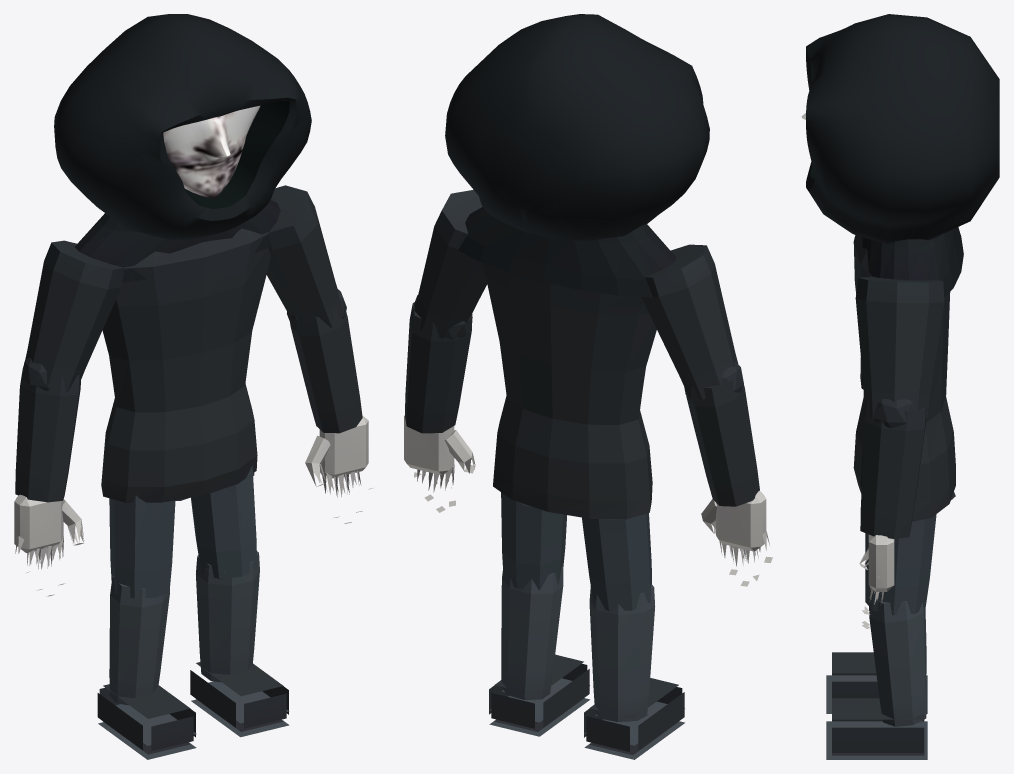
The model's file is HoodedStranger.glb.
3 views of the same model, side by side, from view 1: azimuth 30°, elevation 25°; view 2: azimuth 150°, elevation 25°; view 3: azimuth 270°, elevation 25° (orthographic). The views are drawn at different scales.
Visible parts, largest first — view 1: Head, Body, ArmR, LegR, ArmL, LegL, HeadFace; view 2: Head, Body, ArmR, LegR, LegL, ArmL; view 3: Head, ArmL, LegL, Body, LegR.
Part boxes in pixels (bbox=[...]): Head: bbox=[54, 14, 311, 282]; Body: bbox=[101, 228, 270, 502]; ArmR: bbox=[14, 240, 124, 596]; LegR: bbox=[97, 495, 196, 759]; ArmL: bbox=[266, 185, 373, 523]; LegL: bbox=[190, 465, 289, 737]; HeadFace: bbox=[163, 105, 260, 198]; Head: bbox=[445, 14, 709, 297]; Body: bbox=[482, 263, 656, 520]; ArmR: bbox=[641, 244, 772, 586]; LegR: bbox=[582, 513, 684, 759]; LegL: bbox=[489, 492, 590, 736]; ArmL: bbox=[404, 190, 487, 512]; Head: bbox=[806, 14, 999, 297]; ArmL: bbox=[855, 276, 944, 628]; LegL: bbox=[826, 514, 936, 759]; Body: bbox=[853, 235, 955, 521]; LegR: bbox=[826, 533, 927, 713].
Size of the model in its own units: 3.72 by 7.01 by 1.78.
Materials: 2 (1 with a texture image).
